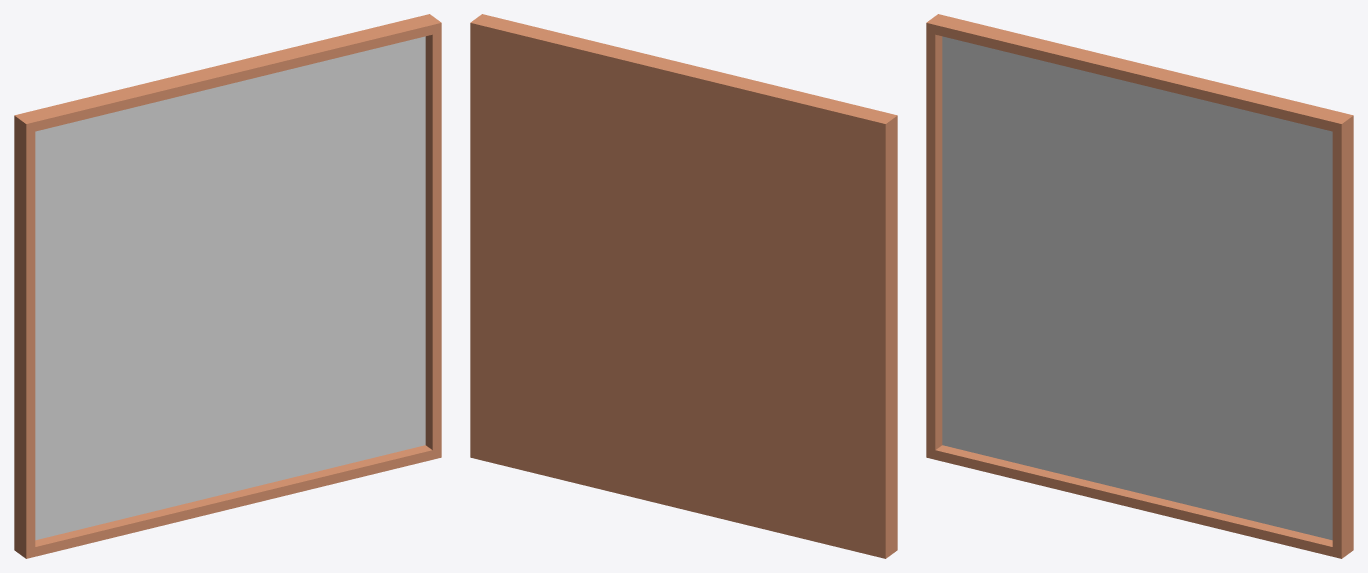
Rendered from Frame.fbx.
3 renders of one model, left to right at view 1: azimuth 30°, elevation 25°; view 2: azimuth 150°, elevation 25°; view 3: azimuth 330°, elevation 25°, orthographic.
Visible parts, largest first — view 1: Cube; view 2: Cube; view 3: Cube.
Part boxes in pixels (x1,y1,x2,y2): Cube: (14, 14, 441, 558); Cube: (470, 14, 897, 558); Cube: (926, 14, 1353, 558).
Bounding box in the file's own units: 40 × 40 × 2.
